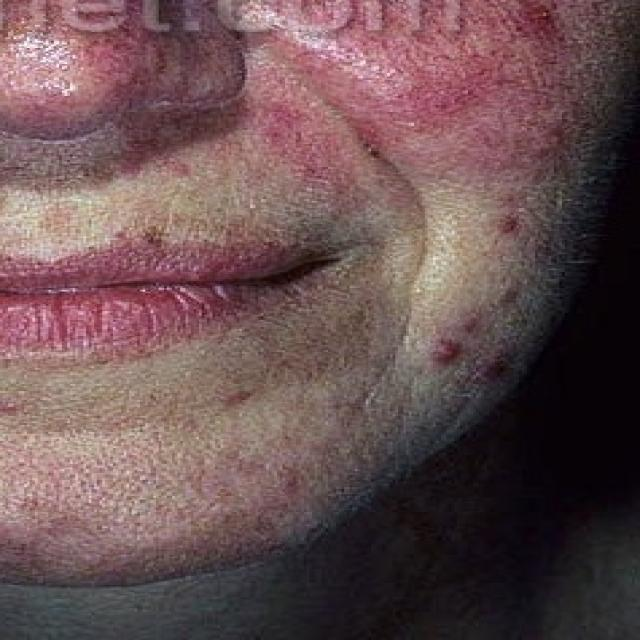Rosacea: (272, 0, 574, 377), (0, 443, 280, 575), (110, 108, 362, 206), (1, 28, 233, 98)
